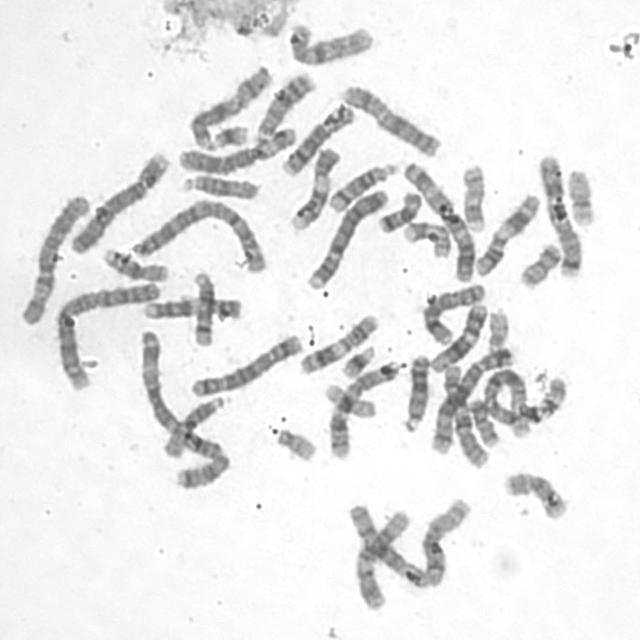A1: (346, 491, 474, 594), (476, 362, 570, 440)
A2: (50, 274, 164, 393), (125, 192, 269, 274)
A3: (132, 321, 232, 491), (399, 154, 479, 284)
B4: (64, 144, 171, 256), (301, 182, 391, 291)
B5: (424, 341, 516, 457), (184, 328, 305, 398)
C10: (436, 360, 491, 470), (282, 16, 376, 68)
C11: (468, 186, 542, 278), (294, 306, 381, 376)
C12: (349, 503, 413, 612), (424, 296, 489, 374)
C6: (13, 187, 92, 328), (171, 119, 301, 176)
C7: (323, 354, 401, 461), (532, 147, 585, 279)
C8: (275, 98, 356, 178), (417, 277, 488, 346)
C9: (284, 140, 342, 234), (137, 289, 246, 322)
D13: (248, 66, 316, 142), (397, 347, 432, 431)
D14: (323, 156, 399, 213), (185, 265, 218, 347)
D15: (157, 388, 233, 461), (175, 168, 262, 201)
E16: (497, 465, 570, 522), (96, 241, 170, 284)
E17: (397, 214, 454, 262), (456, 156, 488, 234)
E18: (372, 184, 423, 233)
F19: (317, 376, 379, 420), (561, 161, 598, 229)
F20: (514, 236, 564, 290), (464, 392, 501, 448)
G21: (335, 338, 377, 380), (202, 118, 252, 152)
G22: (269, 421, 319, 463), (483, 302, 511, 351)
X: (335, 78, 444, 158), (183, 59, 274, 150)
